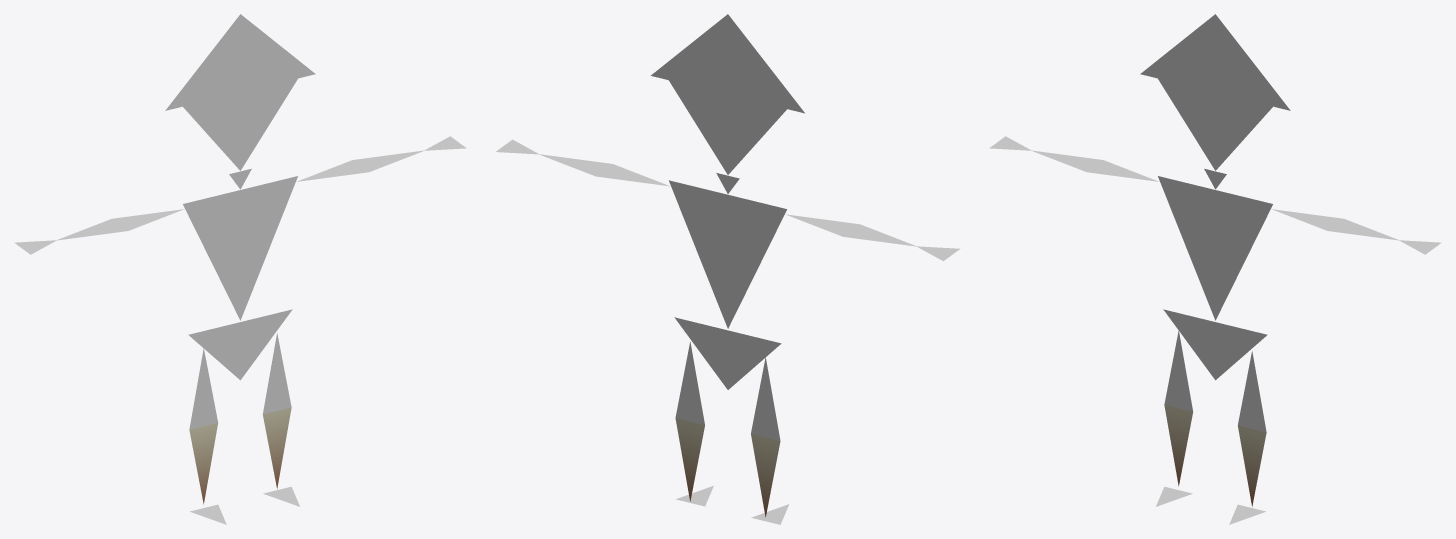
Rendered from ToonLinkTriangle.fbx.
3 renders of one model, left to right at view 1: azimuth 30°, elevation 25°; view 2: azimuth 150°, elevation 25°; view 3: azimuth 330°, elevation 25°, orthographic. The views are drawn at different scales.
Parts seen in each view (by area): view 1: Body, Hat, Head, Pelvis, Calf_R, Thight_L, Thight_R, Calf_L, Lowerarm_R, Upperarm_R, Lowerarm_L, Upperarm_L; view 2: Body, Hat, Head, Pelvis, Calf_L, Thight_L, Thight_R, Calf_R, Upperarm_R, Lowerarm_L, Lowerarm_R, Upperarm_L; view 3: Body, Hat, Head, Pelvis, Calf_L, Calf_R, Thight_L, Thight_R, Lowerarm_L, Upperarm_L, Lowerarm_R, Upperarm_R.
Boxes of the visible parts, x1,y1,x2,y2 form: Body: (183,176,297,320); Hat: (165,14,315,110); Head: (183,78,297,170); Pelvis: (188,309,292,380); Calf_R: (189,423,217,504); Thight_L: (262,333,291,414); Thight_R: (189,348,217,429); Calf_L: (263,407,291,488); Lowerarm_R: (56,219,127,240); Upperarm_R: (112,209,184,230); Lowerarm_L: (353,150,424,171); Upperarm_L: (296,160,368,181); Body: (669,180,786,328); Hat: (651,14,804,113); Head: (669,80,786,174); Pelvis: (674,317,781,389); Calf_L: (675,418,704,501); Thight_L: (675,342,704,425); Thight_R: (751,357,780,440); Calf_R: (751,434,780,516); Upperarm_R: (785,214,859,236); Lowerarm_L: (538,154,612,176); Lowerarm_R: (843,224,916,246); Upperarm_L: (596,164,670,186); Body: (1158,176,1272,320); Hat: (1140,14,1290,110); Head: (1158,78,1272,170); Pelvis: (1163,309,1267,380); Calf_L: (1238,425,1266,506); Calf_R: (1164,405,1192,486); Thight_L: (1238,351,1266,432); Thight_R: (1164,330,1192,411); Lowerarm_L: (1328,219,1399,240); Upperarm_L: (1271,209,1343,230); Lowerarm_R: (1031,150,1102,171); Upperarm_R: (1087,160,1159,181).
Bounding box in the file's own units: 434 × 461 × 54.2.
